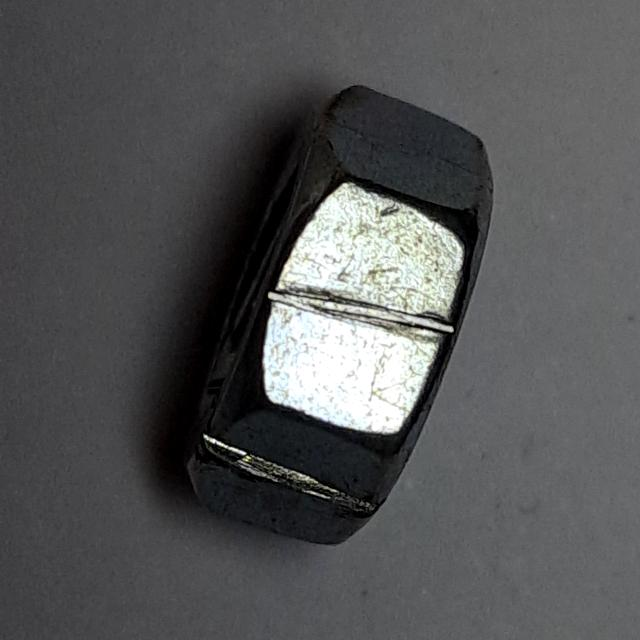Side_Scratches: (166, 62, 505, 562)
